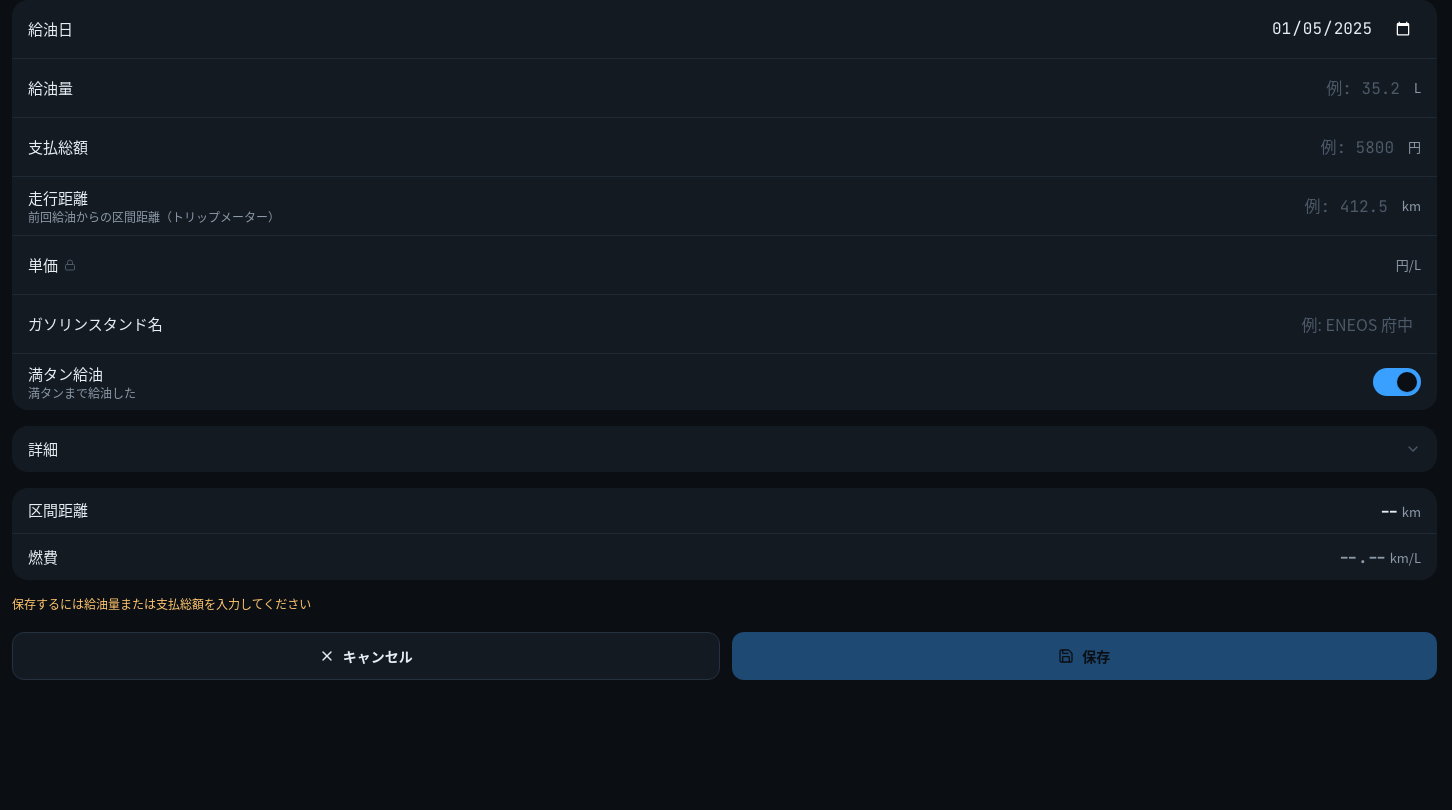
EditFuelRecordForm › 給油量か支払総額が入るまで保存できない
expect the button "保存" is disabled: met, box x1=732 y1=632 x2=1437 y2=680
expect the text "保存するには給油量または支払総額を入力してください" is shown: met, box x1=12 y1=595 x2=311 y2=612
Type "5000" into the field named "支払総額 (円)" at (751, 147), box x1=100 y1=127 x2=1402 y2=167
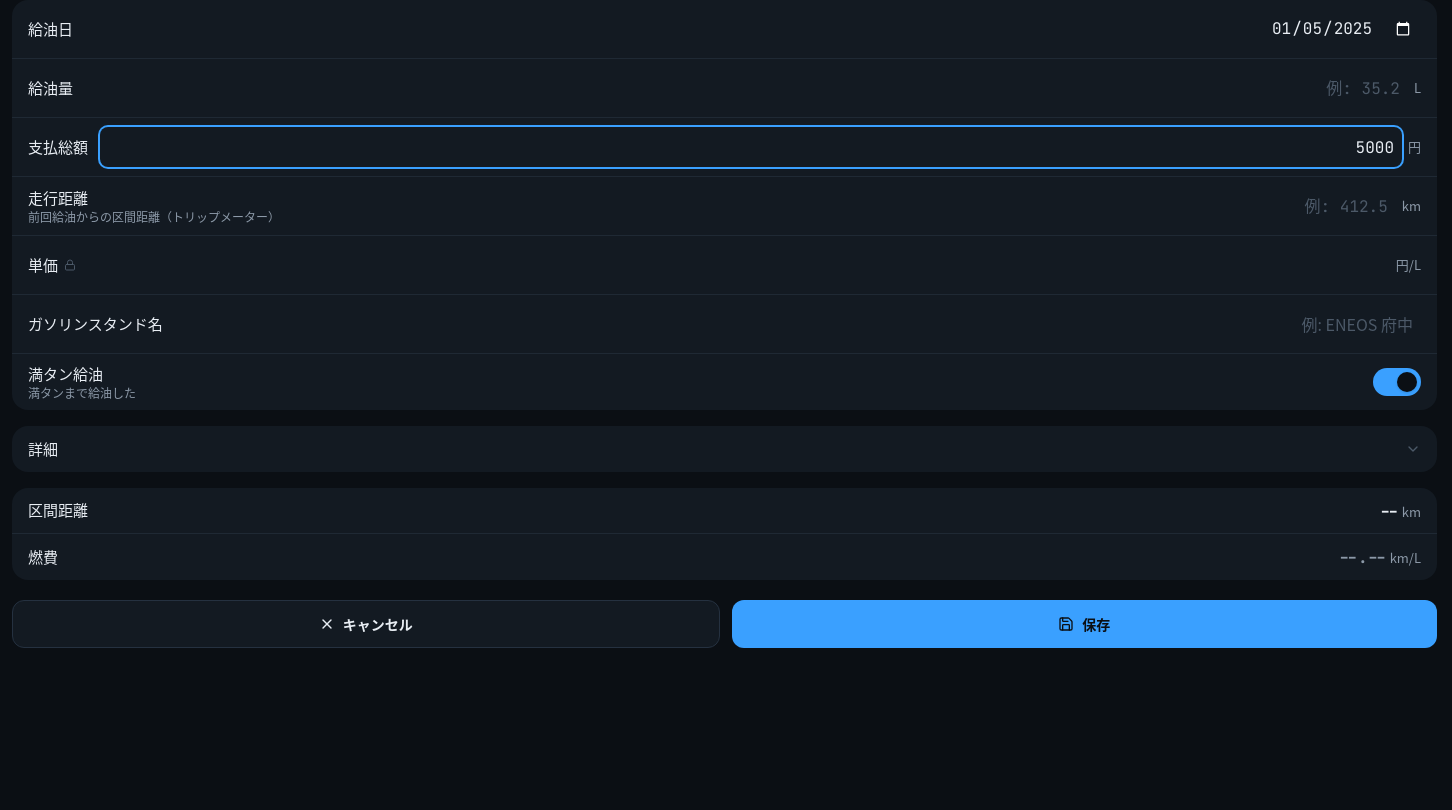
expect the button "保存" is enabled: met
expect the text "保存するには給油量または支払総額を入力してください" is gone: met
Click the button "保存" at (1084, 624), box x1=732 y1=600 x2=1437 y2=648
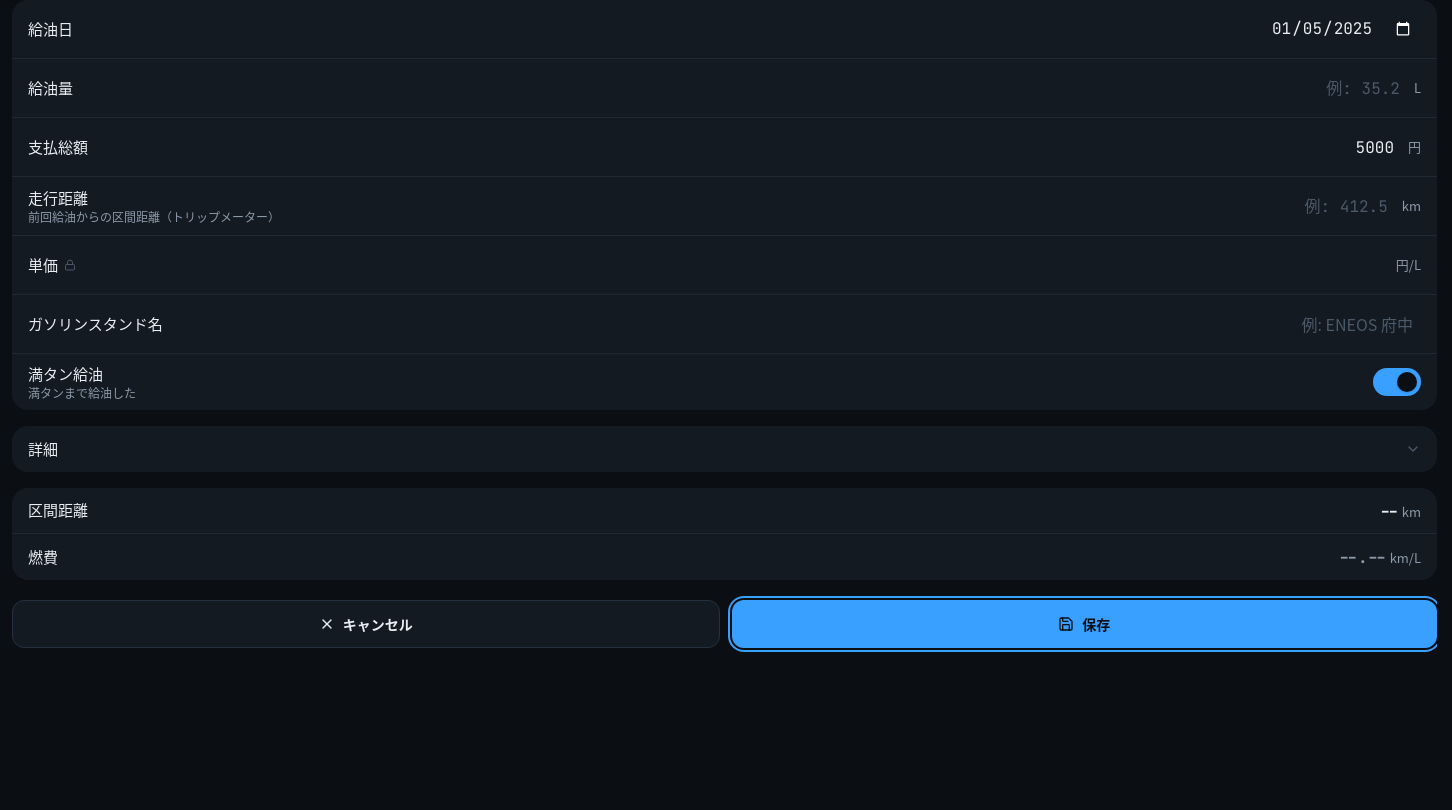
Clear the field named "支払総額 (円)" at (751, 147), box x1=100 y1=127 x2=1402 y2=167
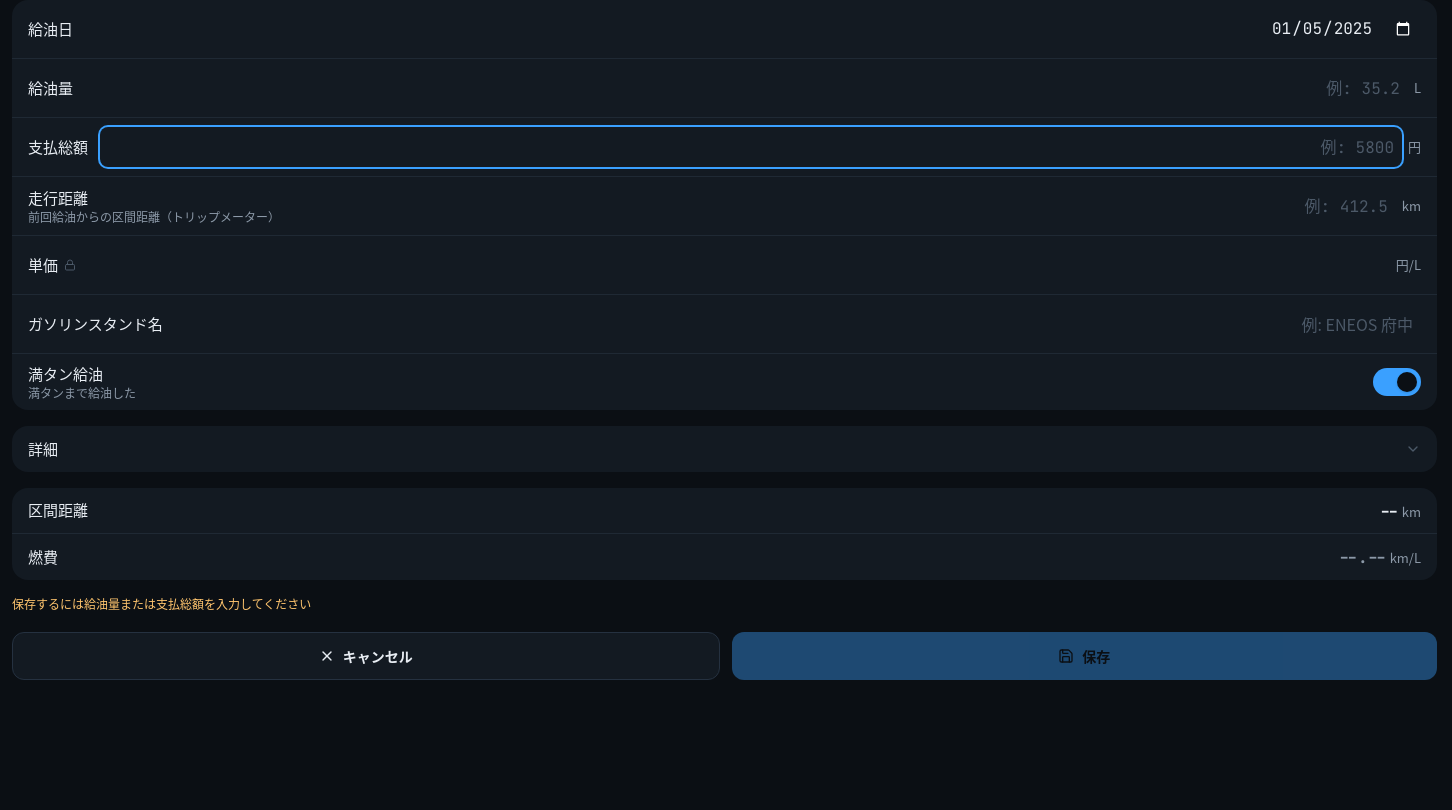
expect the button "保存" is disabled: met, box x1=732 y1=632 x2=1437 y2=680
Type "30" into the field named "給油量 (L)" at (746, 88), box x1=85 y1=68 x2=1408 y2=108
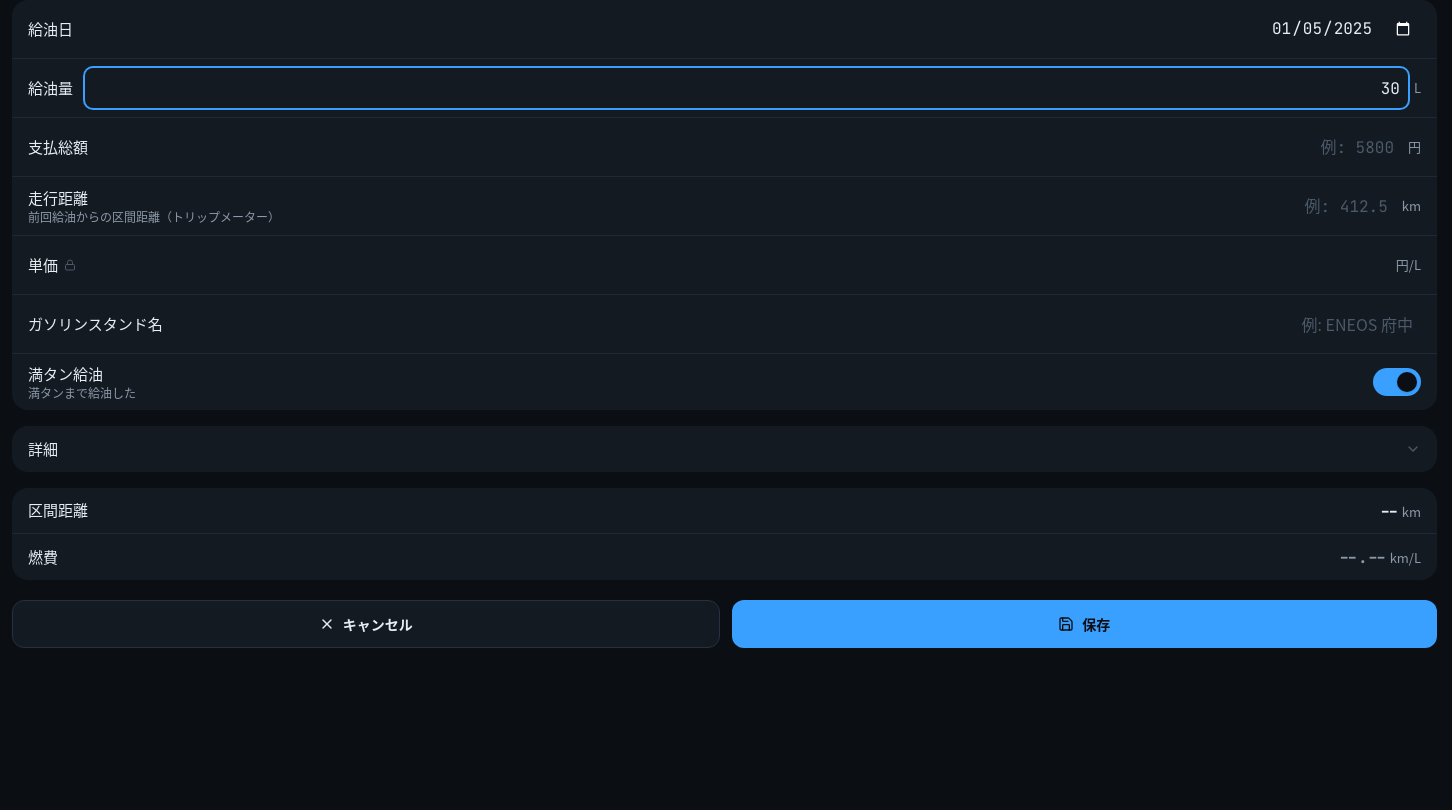
expect the button "保存" is enabled: met, box x1=732 y1=600 x2=1437 y2=648
